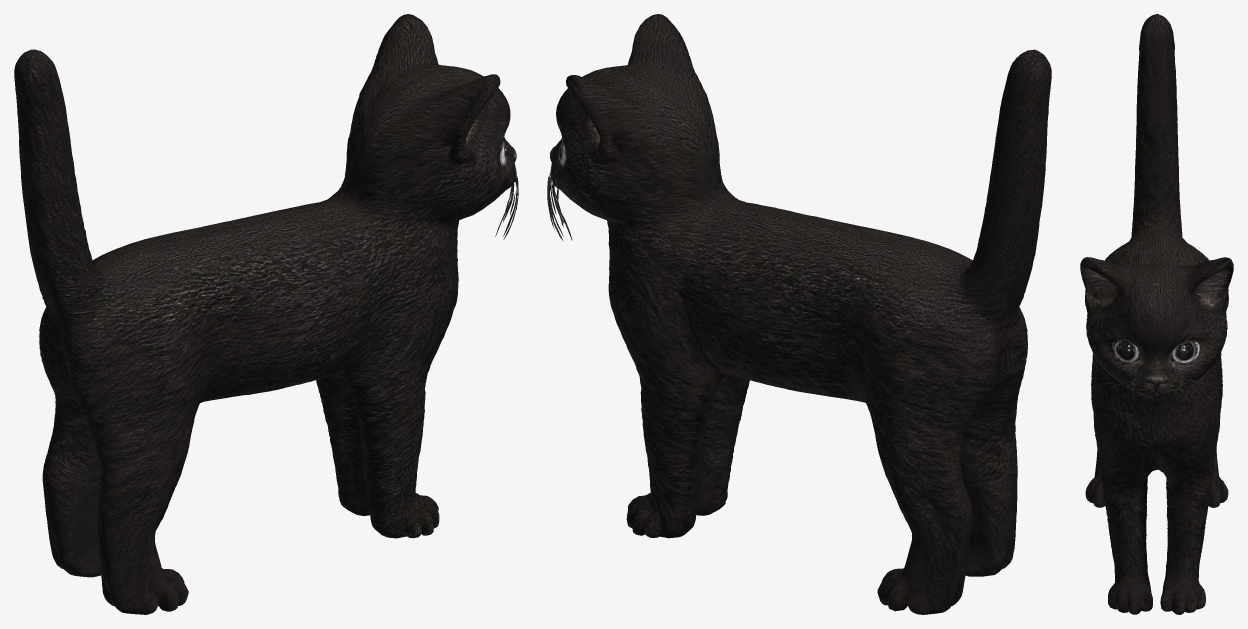
The model's file is BROWANTSIN.glb.
3 renders of one model, left to right at view 1: azimuth 30°, elevation 25°; view 2: azimuth 150°, elevation 25°; view 3: azimuth 270°, elevation 25°, orthographic. The views are drawn at different scales.
Parts seen in each view (by area): view 1: tripo_node_ea8c29a8-05cb-41b4-9cd8-92540f98c491; view 2: tripo_node_ea8c29a8-05cb-41b4-9cd8-92540f98c491; view 3: tripo_node_ea8c29a8-05cb-41b4-9cd8-92540f98c491.
Part boxes in pixels (x1,y1,x2,y2): tripo_node_ea8c29a8-05cb-41b4-9cd8-92540f98c491: (14, 14, 518, 614); tripo_node_ea8c29a8-05cb-41b4-9cd8-92540f98c491: (547, 14, 1051, 614); tripo_node_ea8c29a8-05cb-41b4-9cd8-92540f98c491: (1080, 14, 1233, 614).
Bounding box in the file's own units: 0.9346 × 0.9998 × 0.3094.
1 material, 1 textured.
